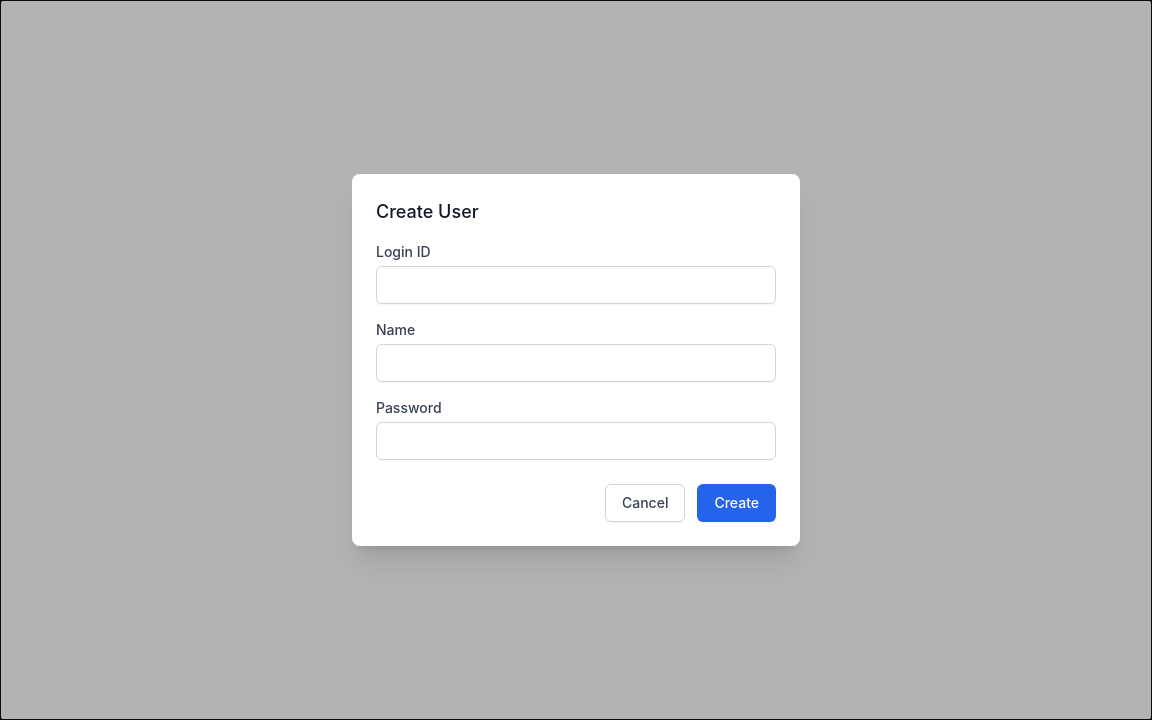
Scenario: CreateUserDialog Component › handles API exception
// Fill in the form
Type "testuser" into the field labelled "Login ID" at (576, 285), box [376,266,776,304]
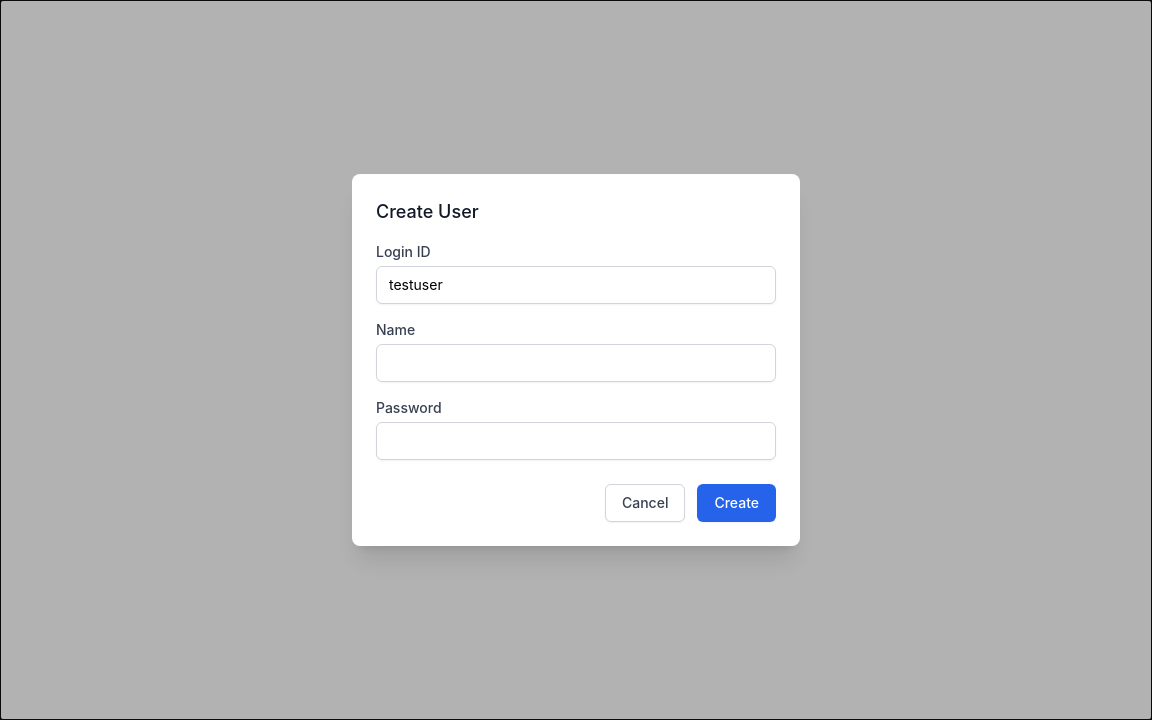
Type "Test User" into the field labelled "Name" at (576, 363), box [376,344,776,382]
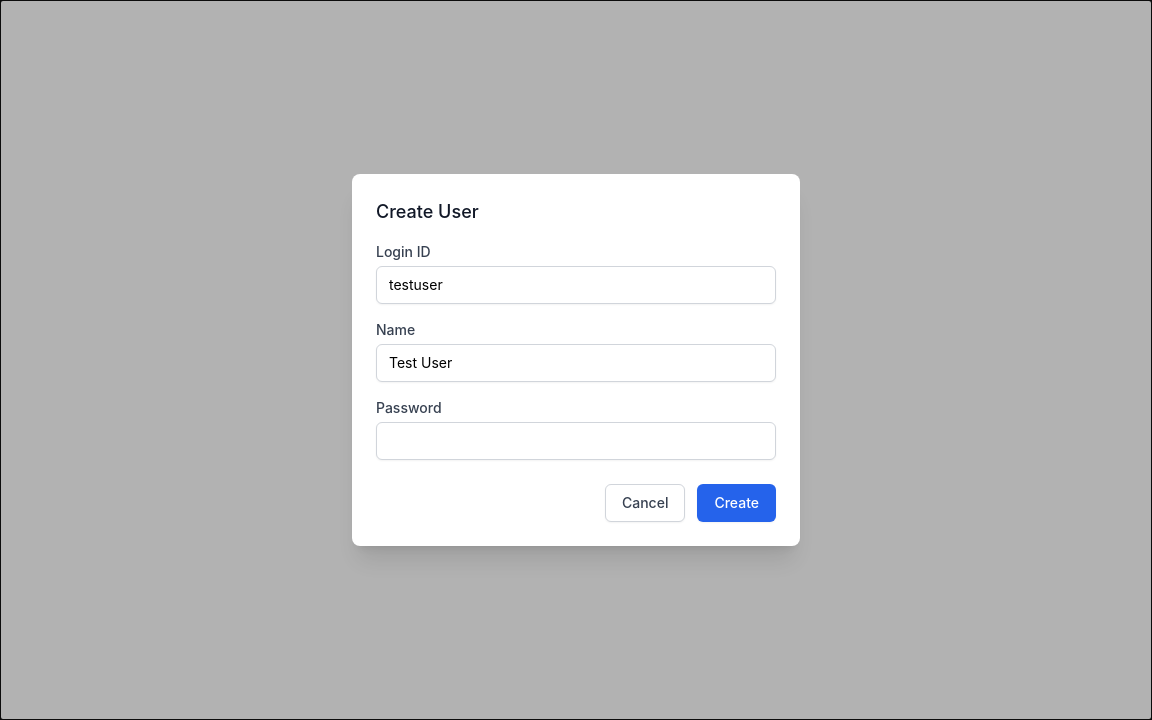
Type "password123" into the password field labelled "Password" at (576, 441), box [376,422,776,460]
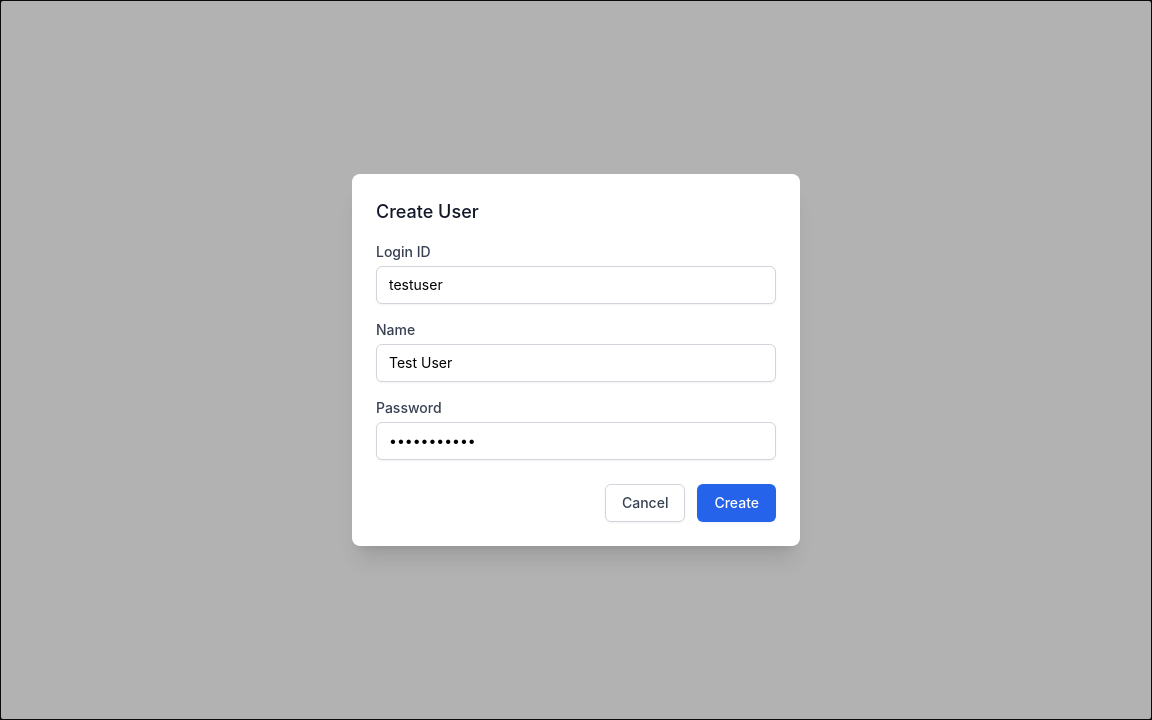
// Submit the form
Click the button "Create" at (737, 503), box [697,484,776,522]
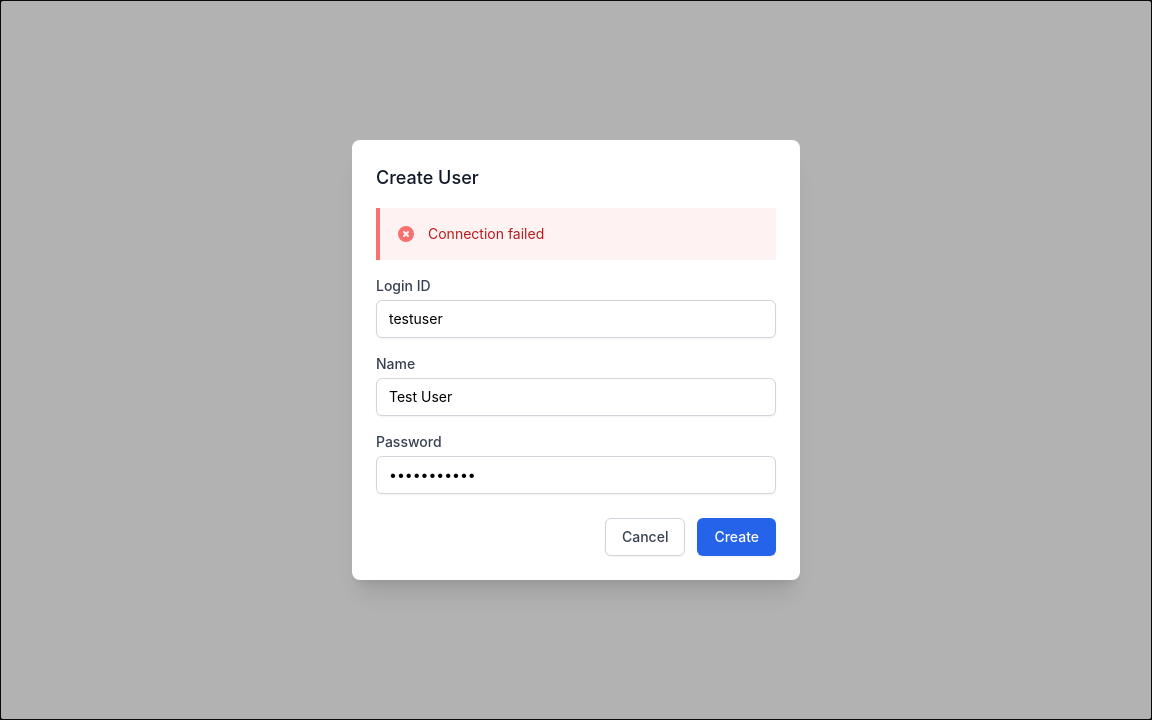
Now the element with test id "error-message" is shown, box [376,208,776,260]
Now the text "Connection failed" is shown, box [428,224,544,244]
